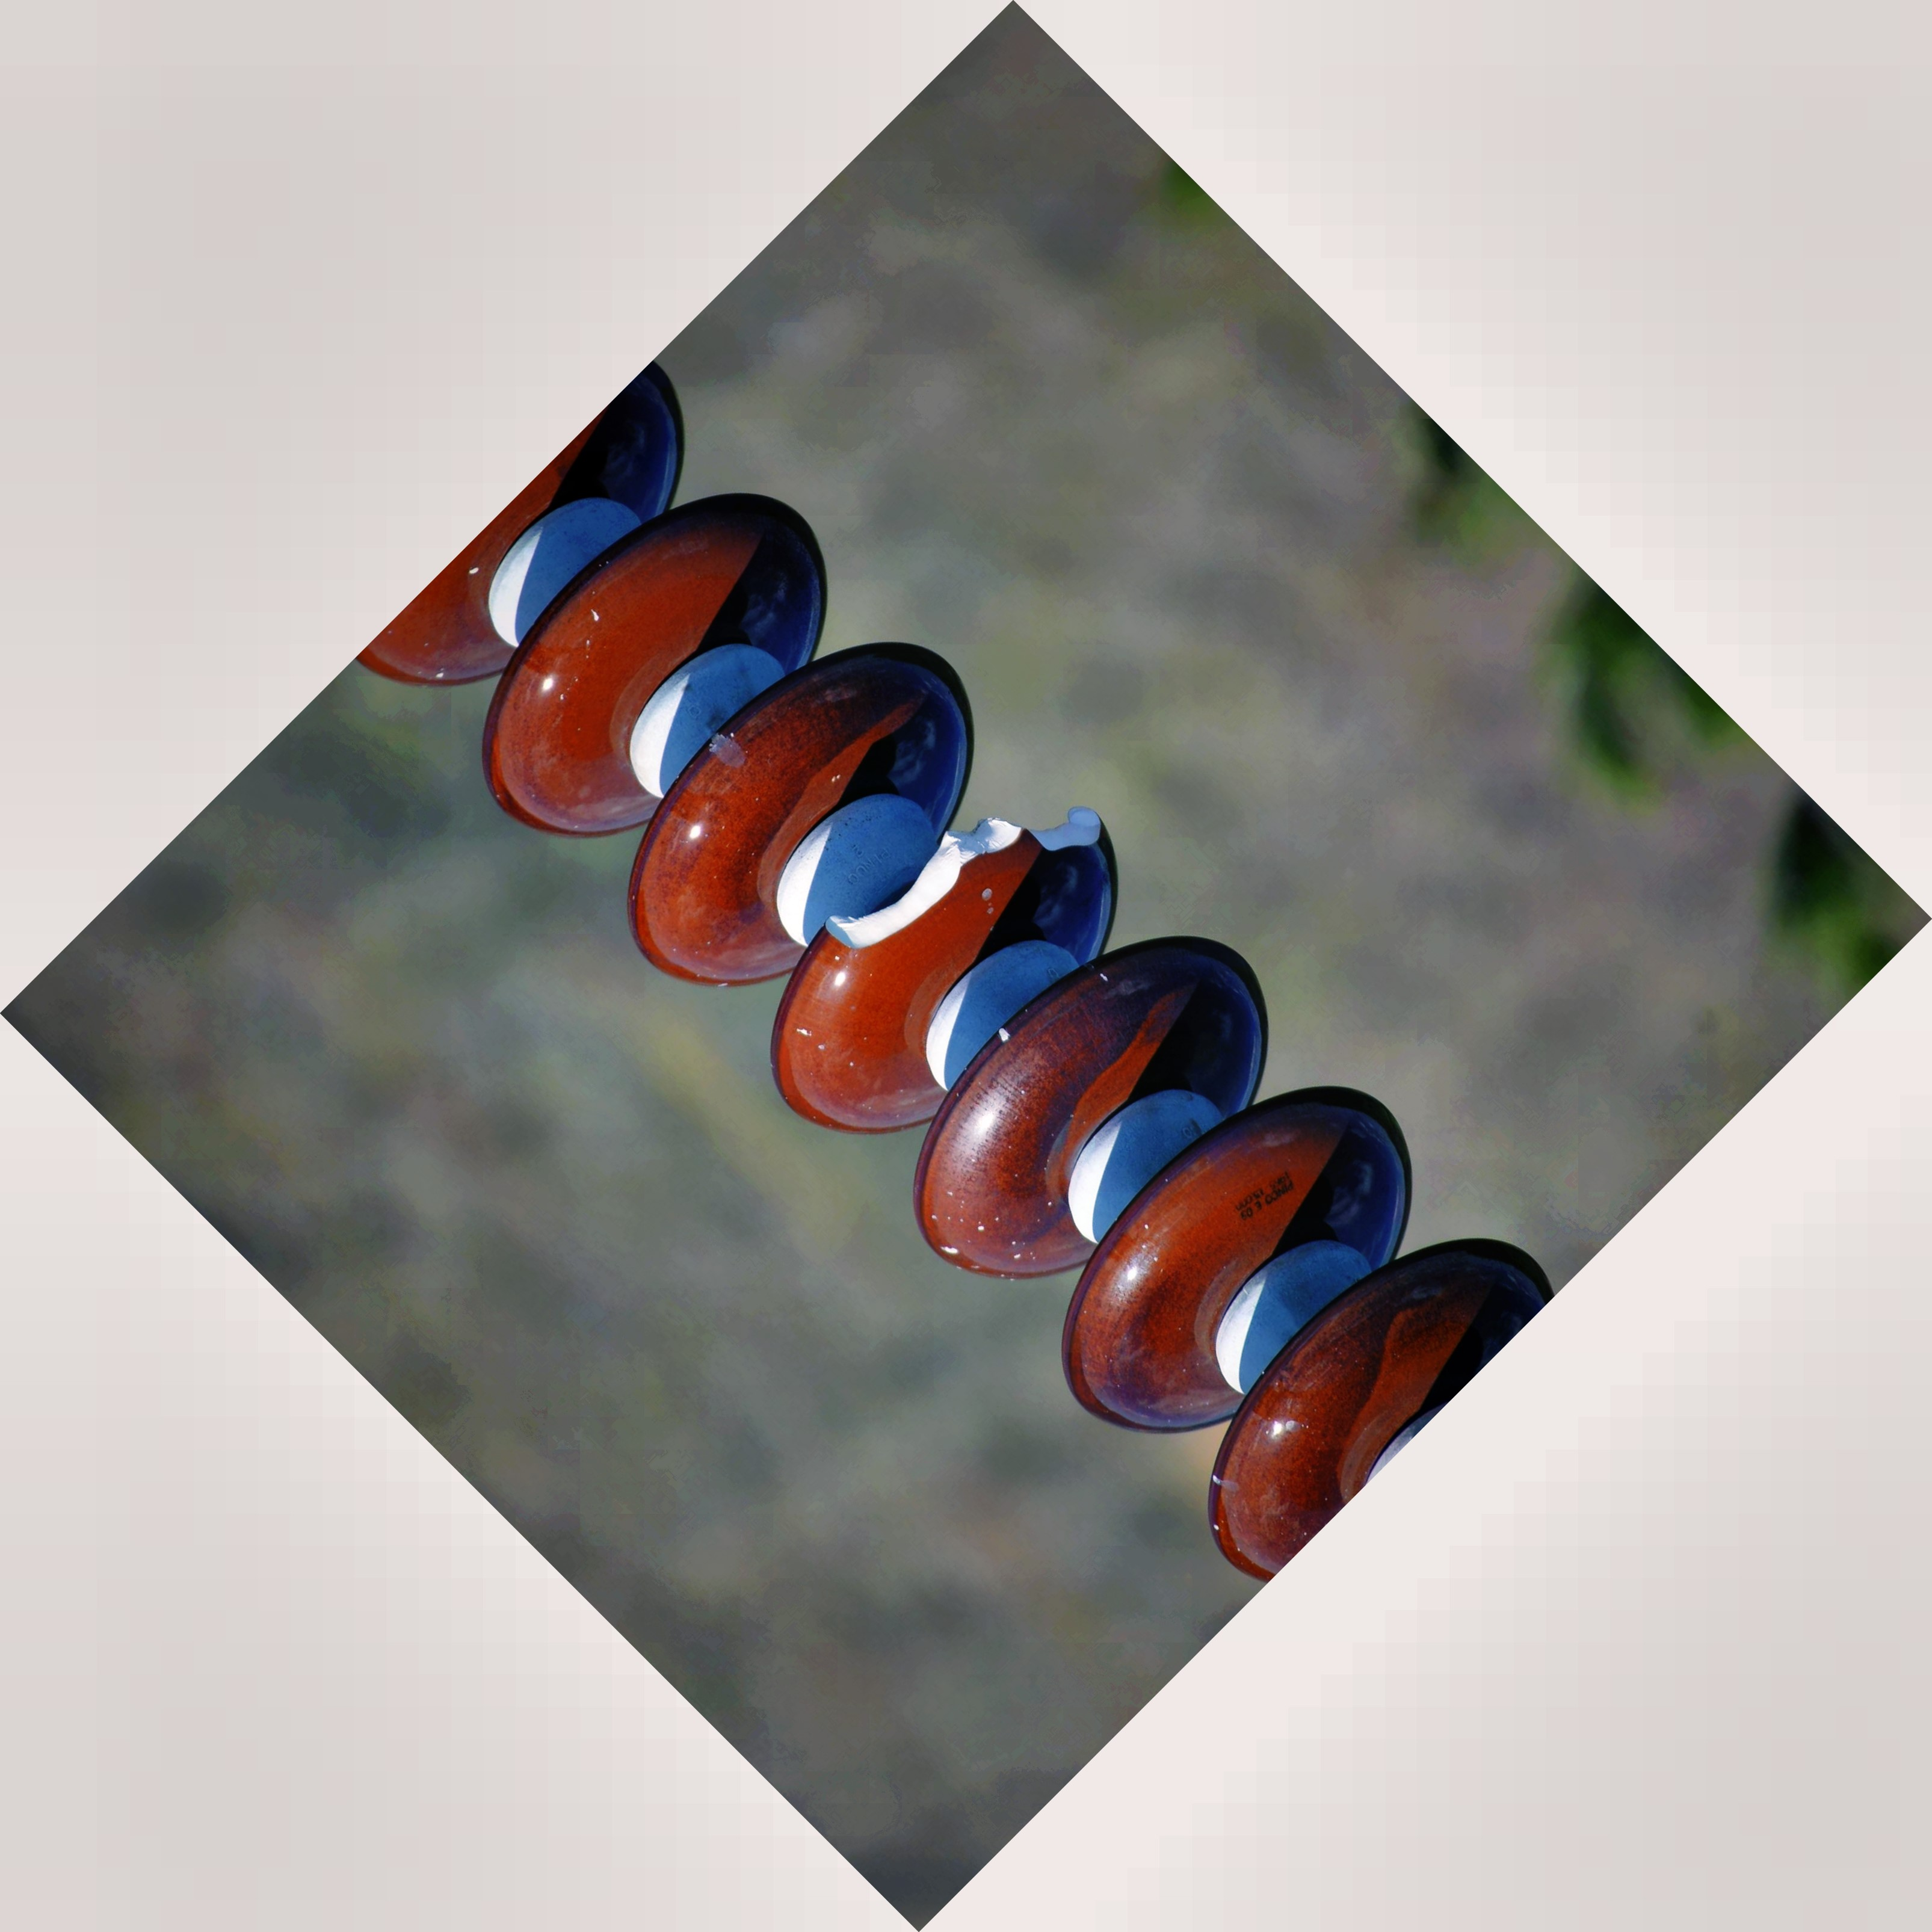insulator breakage: (747, 773, 1120, 1150)
